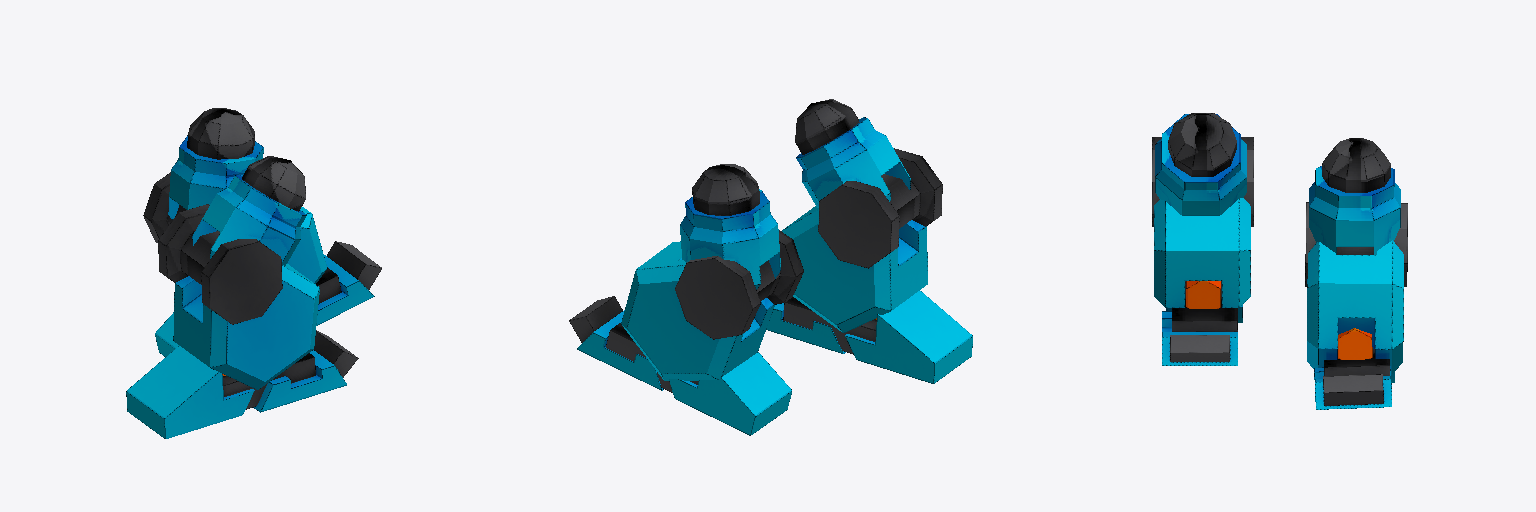
3 views of the same model, side by side, from view 1: azimuth 30°, elevation 25°; view 2: azimuth 150°, elevation 25°; view 3: azimuth 270°, elevation 25° (orthographic).
Parts seen in each view (by area): view 1: Object013, Object014, Object012, Object009, Object011, Object010; view 2: Object013, Object010, Object014, Object011, Object009, Object012; view 3: Object010, Object013, Object009, Object012, Object014, Object011.
Boxes of the visible parts, x1=… form: Object013: x1=158, y1=204, x2=319, y2=389; Object014: x1=126, y1=330, x2=358, y2=438; Object012: x1=192, y1=156, x2=306, y2=265; Object009: x1=168, y1=108, x2=263, y2=219; Object011: x1=155, y1=241, x2=381, y2=356; Object010: x1=143, y1=172, x2=327, y2=283; Object013: x1=782, y1=148, x2=942, y2=332; Object010: x1=621, y1=230, x2=803, y2=380; Object014: x1=766, y1=291, x2=972, y2=383; Object011: x1=569, y1=296, x2=791, y2=435; Object009: x1=680, y1=164, x2=780, y2=289; Object012: x1=795, y1=99, x2=910, y2=207; Object010: x1=1305, y1=202, x2=1407, y2=374; Object013: x1=1152, y1=137, x2=1253, y2=307; Object009: x1=1309, y1=138, x2=1400, y2=254; Object012: x1=1155, y1=113, x2=1246, y2=215; Object014: x1=1162, y1=281, x2=1242, y2=365; Object011: x1=1314, y1=328, x2=1394, y2=409.
Bounding box in the file's own units: 127 × 107 × 94.65.
1 materials, 1 textured.